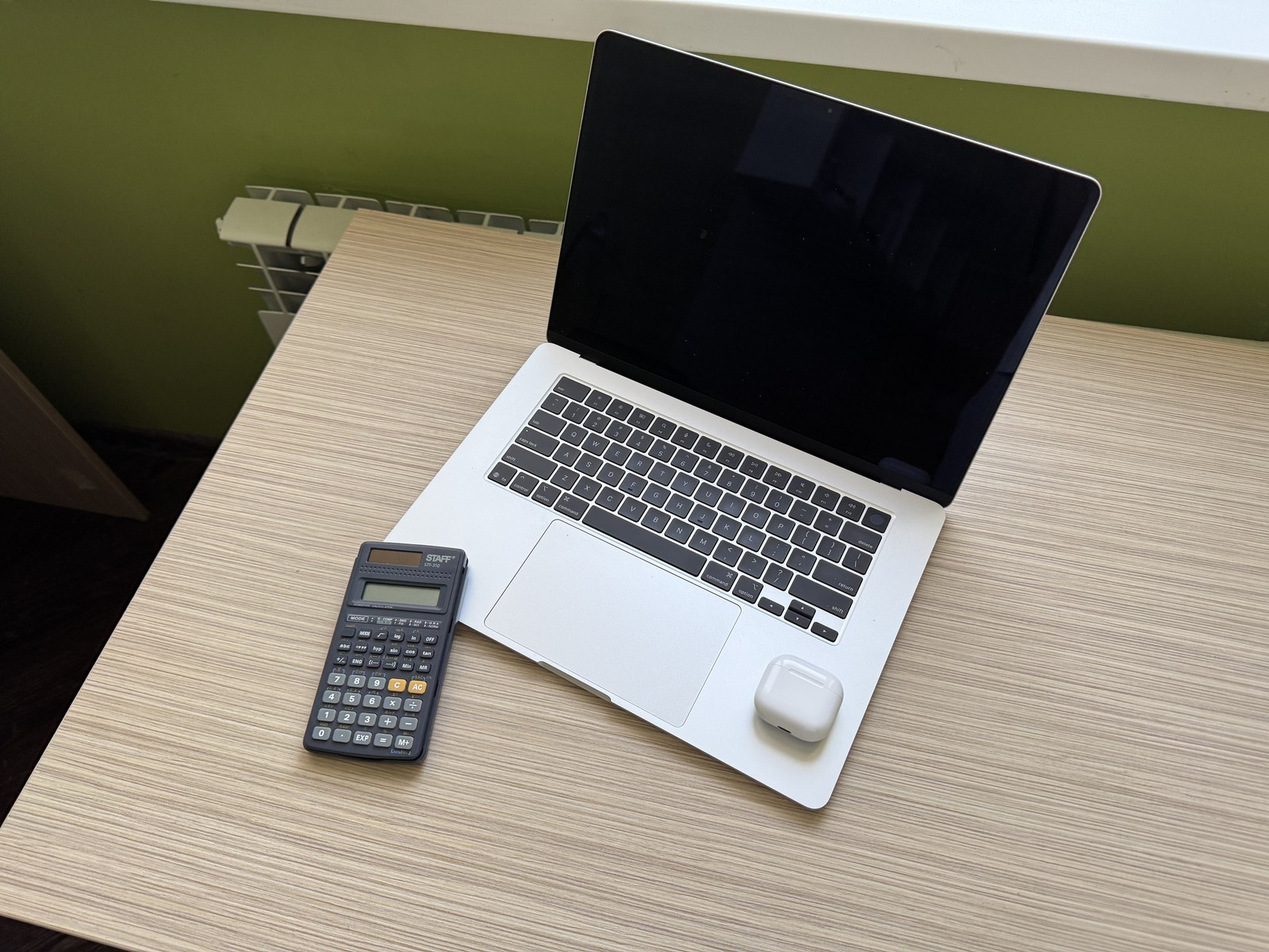laptop: (380, 28, 1102, 810)
